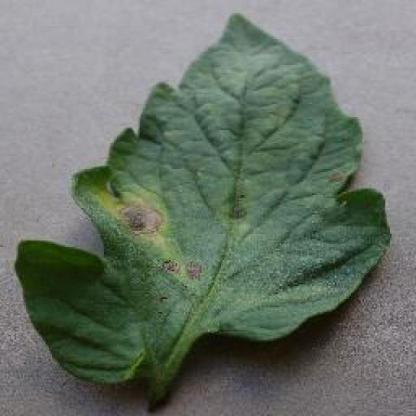Tomato_Blight: (17, 14, 393, 406)
